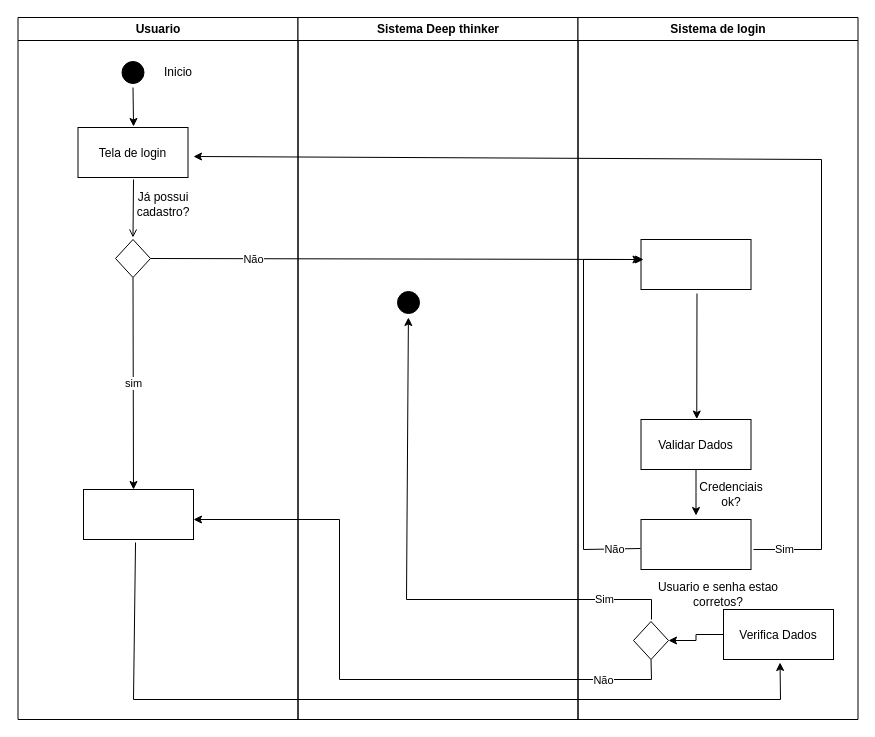
Some shapes in this 875 by 737 pixel diagram are drawn without their labels. The centre of each missing label's shape, as x and y in pixels:
"Conta Cadastrada" belongs at (x=695, y=544).
"Inserir conta" belongs at (x=138, y=514).
"Inserir Dados" belongs at (x=695, y=264).
